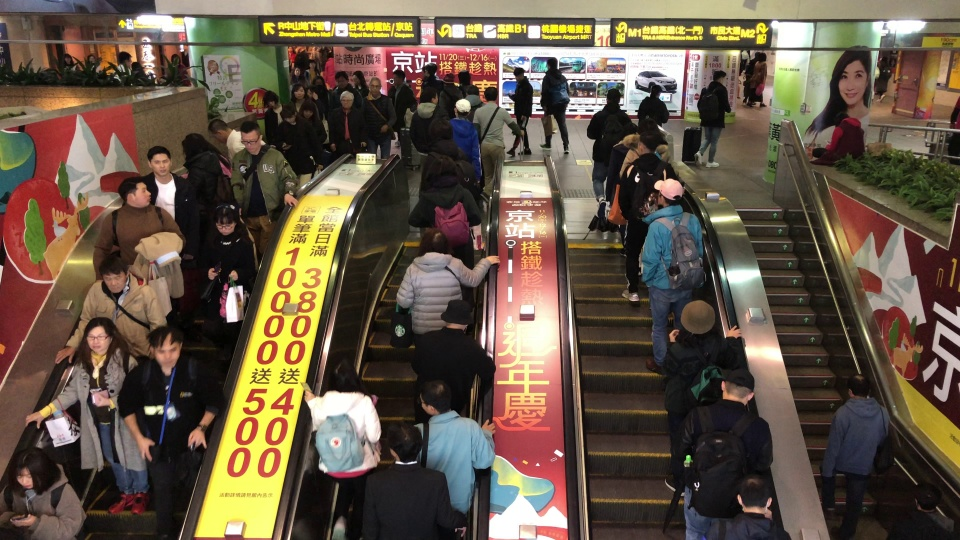person_head: (146, 326, 184, 369), (322, 363, 366, 395), (389, 425, 424, 465), (417, 381, 453, 417), (717, 370, 754, 405), (737, 478, 770, 517), (681, 300, 715, 337), (97, 253, 129, 292), (438, 301, 473, 333), (117, 175, 151, 207), (416, 226, 450, 255), (651, 177, 682, 208), (84, 324, 113, 356), (181, 133, 209, 164), (144, 146, 172, 177), (237, 121, 263, 154), (211, 205, 238, 236), (426, 118, 453, 146), (846, 374, 872, 400), (207, 119, 233, 142), (13, 463, 34, 489), (636, 133, 656, 155), (451, 98, 471, 119), (298, 102, 317, 120), (261, 90, 279, 109), (431, 164, 449, 182), (337, 91, 354, 110), (604, 87, 621, 106), (418, 90, 438, 106), (709, 69, 726, 85), (484, 86, 499, 104), (280, 106, 296, 122), (369, 76, 382, 95), (392, 68, 406, 85), (334, 71, 349, 86), (118, 52, 132, 67), (458, 69, 472, 84), (834, 113, 850, 126), (292, 85, 305, 100), (465, 85, 480, 98), (512, 67, 525, 81), (624, 123, 638, 136), (353, 71, 365, 86), (545, 57, 558, 70), (427, 61, 439, 74), (651, 84, 662, 98), (131, 58, 142, 71), (312, 77, 325, 87), (169, 53, 180, 64), (61, 53, 73, 63), (85, 54, 97, 64), (305, 86, 315, 98), (442, 74, 454, 84), (421, 65, 432, 75), (757, 52, 767, 63), (291, 66, 301, 76), (307, 59, 316, 69), (882, 64, 892, 73), (287, 46, 294, 53), (326, 51, 333, 58), (753, 52, 759, 60), (182, 43, 187, 50)
person_vbox: (23, 318, 150, 519), (119, 326, 225, 539), (680, 369, 780, 540), (661, 300, 747, 497), (293, 363, 383, 540), (403, 381, 497, 538), (635, 177, 709, 373), (350, 424, 468, 540), (392, 226, 501, 344), (55, 253, 168, 362), (401, 300, 497, 423), (821, 374, 891, 535), (88, 175, 187, 282), (617, 132, 678, 300), (136, 145, 200, 298), (228, 120, 300, 255), (417, 163, 480, 316), (199, 205, 259, 350), (0, 448, 86, 540), (411, 117, 486, 213), (584, 87, 633, 223), (470, 84, 522, 211), (603, 123, 652, 257), (704, 474, 791, 538), (690, 68, 735, 169), (178, 134, 236, 210), (409, 89, 467, 162), (443, 97, 484, 184), (536, 57, 571, 154), (809, 111, 866, 169), (278, 105, 315, 186), (504, 67, 534, 157), (207, 119, 265, 162), (387, 68, 418, 147), (368, 76, 397, 159), (634, 84, 672, 144), (332, 90, 367, 155), (298, 104, 328, 161), (260, 91, 283, 149), (330, 71, 361, 112), (747, 52, 767, 110), (439, 73, 463, 115), (873, 59, 894, 102), (740, 53, 757, 106), (462, 84, 485, 122), (166, 53, 191, 86), (305, 86, 325, 122), (310, 76, 328, 112), (420, 65, 444, 92), (111, 52, 133, 80), (130, 58, 149, 83), (303, 59, 320, 86), (457, 69, 473, 97), (352, 70, 369, 96), (60, 52, 80, 72), (180, 42, 192, 75), (324, 51, 335, 87), (291, 86, 306, 111), (84, 54, 103, 73), (290, 66, 305, 87), (427, 62, 441, 81), (285, 46, 295, 65)
